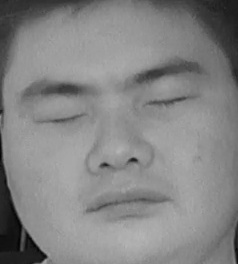blink: (34, 99, 90, 135), (143, 85, 196, 120)
mouth: (81, 181, 171, 225)
